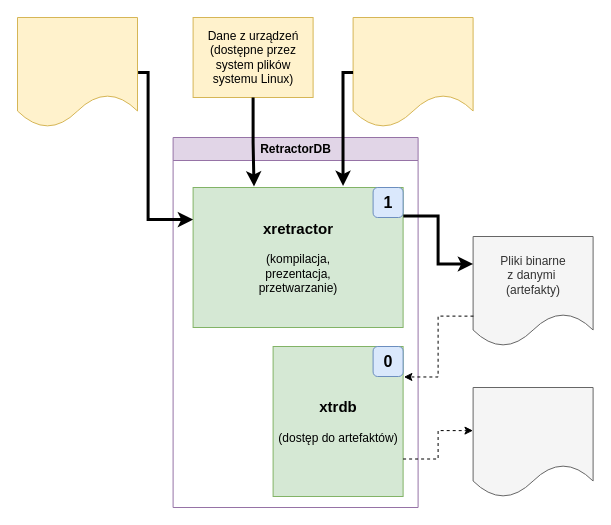
This 611x525 diagram has some shape labels left out. The centre of each missing label's shape, as x and y in pixels:
"Plik .rql z sekwencją zapytań, dyrektyw i deklaracji źródeł danych" goes at (x=77, y=72).
"Pliki binarne lub tekstowe z danymi" goes at (x=412, y=72).
"Pliki tekstowe reprezentujące artefakty" goes at (x=532, y=442).
